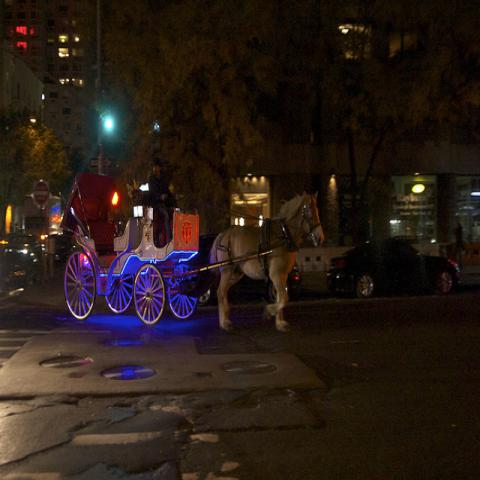car: (326, 235, 462, 299), (198, 231, 301, 306), (0, 243, 43, 290)
